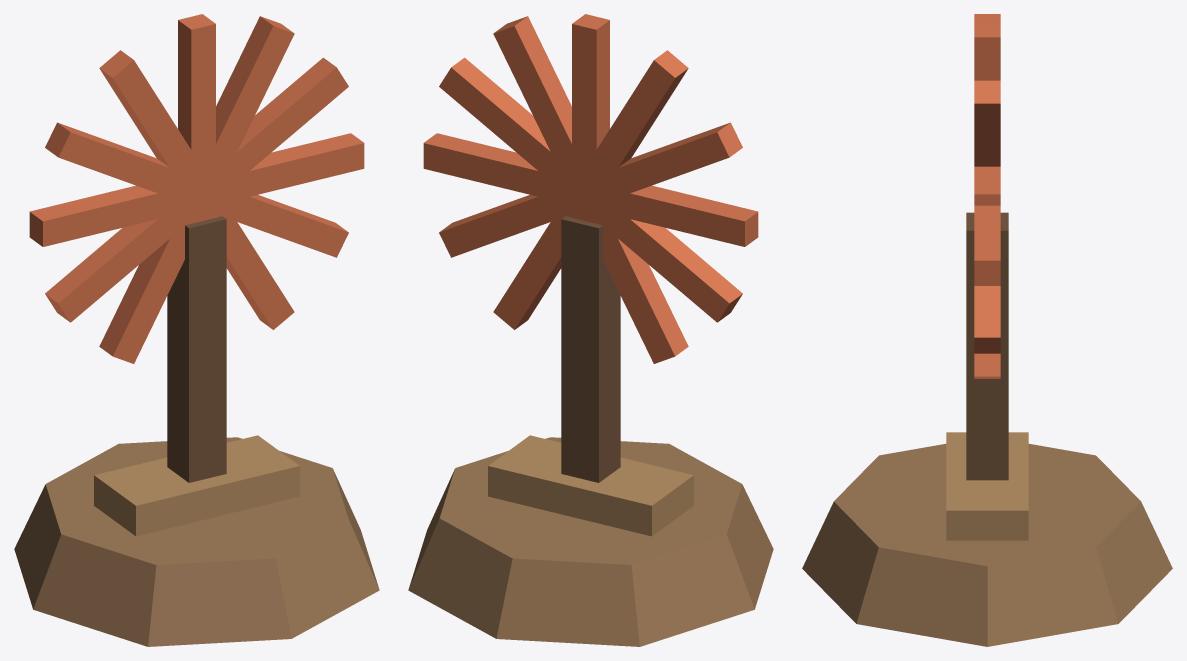
File: claude-asterisk.glb
3 renders of one model, left to right at view 1: azimuth 30°, elevation 25°; view 2: azimuth 150°, elevation 25°; view 3: azimuth 270°, elevation 25°, orthographic. The views are drawn at different scales.
Parts seen in each view (by area): view 1: claude-asterisk, Claude_Sunburst; view 2: claude-asterisk, Claude_Sunburst; view 3: claude-asterisk, Claude_Sunburst.
Part boxes in pixels (x1=…): claude-asterisk: x1=14, y1=216, x2=379, y2=646; Claude_Sunburst: x1=29, y1=14, x2=364, y2=363; claude-asterisk: x1=408, y1=216, x2=773, y2=646; Claude_Sunburst: x1=423, y1=14, x2=758, y2=363; claude-asterisk: x1=802, y1=212, x2=1172, y2=646; Claude_Sunburst: x1=974, y1=14, x2=1000, y2=378.
Bounding box in the file's own units: 1.4 × 2.24 × 1.4.
